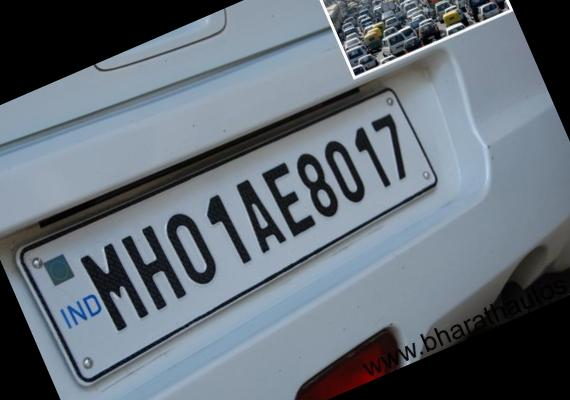plate: (6, 50, 497, 383)
